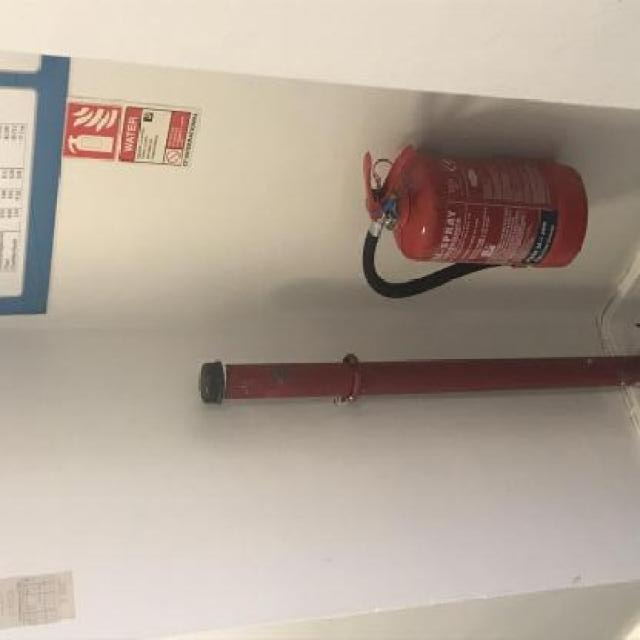fire extinguisher: (356, 143, 589, 295)
